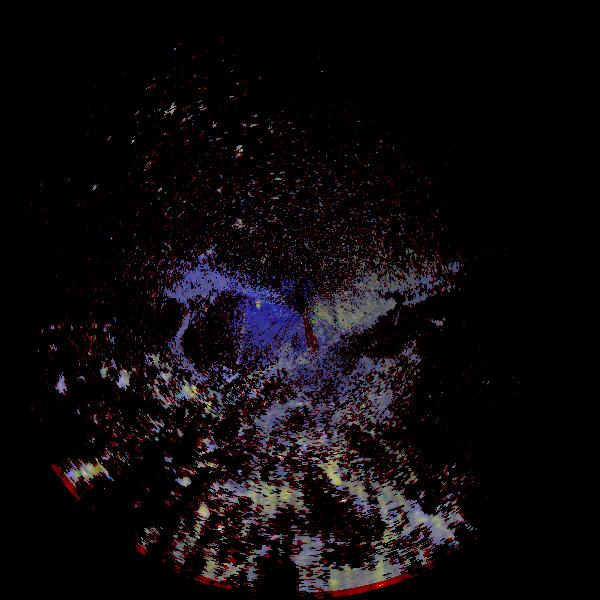roost: (100, 366, 112, 378)
